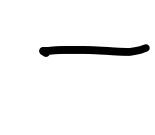minus: (37, 44, 150, 57)
